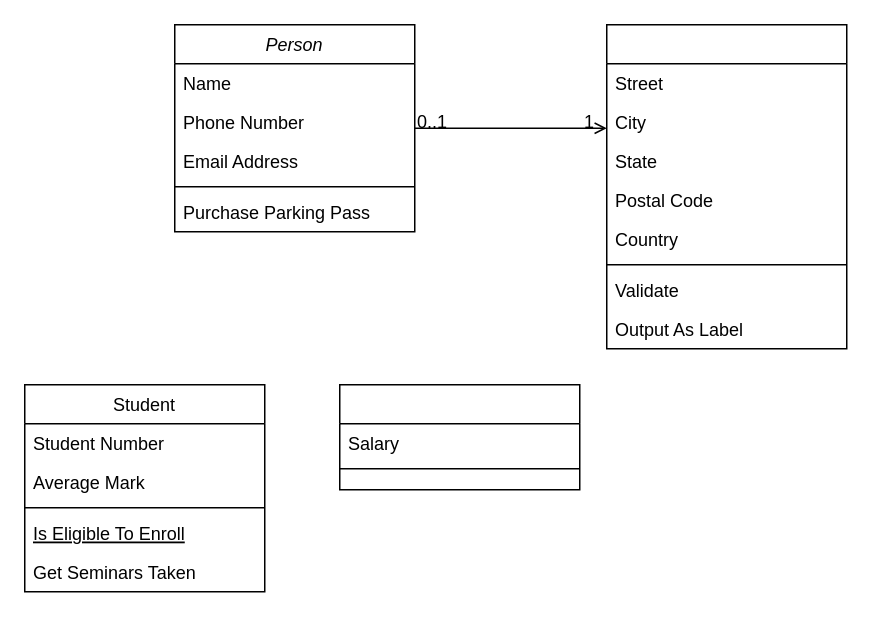
Some shapes in this 872 by 617 pixel diagram are drawn without their labels. Here are the shapes that lost their labels. From the top down, the box of each, then its label:
(605, 23, 847, 349): Address
(338, 383, 580, 490): Professor
